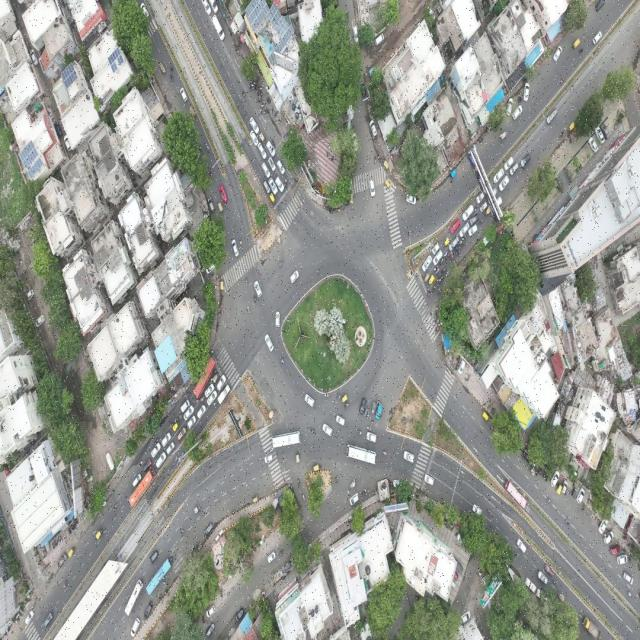3W: (555, 589, 567, 607), (565, 119, 576, 138), (572, 34, 583, 52), (186, 104, 198, 120), (66, 541, 76, 559), (191, 502, 202, 518), (94, 526, 104, 543), (157, 59, 167, 76), (292, 450, 302, 466), (383, 177, 392, 193), (422, 268, 430, 286), (250, 492, 260, 506), (448, 167, 458, 181), (218, 278, 226, 294), (258, 129, 266, 145), (268, 192, 277, 206), (480, 408, 489, 422), (340, 392, 350, 404), (383, 158, 391, 173), (218, 200, 225, 217), (427, 272, 435, 286), (569, 488, 577, 501), (172, 422, 182, 432), (312, 463, 321, 474), (444, 238, 451, 250), (556, 482, 562, 496), (210, 375, 219, 384), (485, 206, 492, 217)
Bus: (192, 349, 219, 403), (144, 554, 174, 598), (127, 472, 157, 508), (501, 477, 530, 512), (270, 427, 304, 455), (346, 440, 378, 469), (123, 579, 146, 618)
Cars: (254, 278, 265, 304), (546, 106, 559, 128), (131, 615, 142, 640), (42, 610, 55, 631), (586, 136, 600, 155), (143, 599, 154, 622), (230, 237, 241, 260), (550, 465, 561, 488), (248, 114, 260, 135), (255, 140, 267, 161), (593, 126, 605, 147), (600, 122, 612, 143), (518, 152, 532, 170), (536, 568, 550, 586), (421, 470, 435, 488), (498, 174, 511, 193), (462, 203, 475, 222), (264, 332, 275, 354), (148, 547, 160, 567), (265, 139, 277, 159), (350, 130, 360, 154), (516, 536, 528, 556), (333, 411, 347, 428), (404, 191, 418, 208), (458, 222, 472, 239), (447, 235, 461, 252), (402, 448, 416, 465), (303, 392, 316, 410), (591, 29, 604, 47), (218, 182, 228, 205), (492, 166, 504, 185), (199, 0, 212, 17), (57, 549, 68, 569), (131, 471, 142, 491), (234, 603, 244, 625), (140, 1, 150, 23), (422, 253, 433, 273), (207, 192, 216, 216), (432, 249, 444, 267), (472, 499, 484, 517), (260, 157, 270, 178), (23, 610, 36, 626), (204, 622, 217, 638), (321, 422, 334, 438), (449, 219, 462, 235), (602, 530, 615, 546), (216, 373, 226, 393), (289, 268, 299, 288), (276, 156, 286, 176), (369, 116, 379, 136), (142, 456, 153, 474), (269, 175, 278, 197), (351, 24, 360, 46), (508, 161, 519, 179), (575, 486, 586, 504), (373, 32, 386, 47), (511, 105, 523, 121), (616, 552, 628, 568), (543, 562, 555, 578), (374, 402, 384, 421), (250, 130, 260, 149), (274, 176, 284, 195), (598, 517, 608, 536), (359, 395, 368, 416), (204, 604, 217, 618), (204, 520, 214, 538), (205, 381, 215, 399), (208, 0, 220, 15), (456, 359, 466, 377), (150, 442, 161, 458), (266, 548, 277, 564), (506, 95, 513, 120), (179, 85, 188, 104), (553, 44, 562, 63), (184, 404, 194, 421), (196, 403, 206, 420), (621, 572, 634, 585), (348, 492, 360, 506), (155, 453, 166, 468), (176, 426, 187, 441), (207, 390, 218, 405), (267, 154, 276, 172), (262, 180, 272, 196), (160, 432, 172, 445), (609, 545, 621, 558), (594, 0, 607, 12), (166, 442, 176, 457), (504, 156, 514, 171), (469, 212, 479, 227), (274, 309, 281, 330), (366, 432, 378, 444), (474, 192, 486, 204), (467, 226, 479, 238), (478, 200, 489, 213), (187, 415, 197, 429), (369, 178, 376, 198), (562, 477, 569, 497), (432, 241, 441, 256), (524, 82, 530, 104), (262, 452, 274, 462)
LCV: (210, 13, 227, 43), (216, 383, 232, 406), (523, 578, 537, 592), (180, 399, 193, 412)
M2W: (278, 353, 286, 368), (61, 578, 69, 592), (277, 546, 285, 560), (322, 391, 332, 400), (552, 577, 559, 589), (178, 528, 186, 538), (545, 496, 552, 507), (371, 153, 377, 165), (381, 449, 389, 458), (361, 489, 369, 498), (278, 258, 284, 270), (300, 492, 306, 504), (578, 46, 585, 56), (512, 549, 519, 559), (309, 427, 316, 437), (296, 477, 302, 488), (431, 188, 439, 196), (112, 503, 119, 512), (558, 129, 565, 138), (365, 422, 372, 431), (33, 548, 39, 558), (36, 558, 42, 568), (169, 70, 174, 82), (334, 474, 339, 486), (158, 592, 164, 602), (184, 390, 191, 398), (477, 218, 484, 226), (458, 478, 465, 486), (189, 545, 196, 553), (138, 459, 144, 468), (178, 412, 184, 421), (564, 518, 570, 527), (626, 591, 632, 600), (487, 507, 493, 516), (227, 510, 236, 516), (67, 526, 72, 536), (246, 305, 251, 315), (271, 136, 276, 146), (165, 579, 172, 586), (283, 182, 288, 191), (560, 76, 565, 85), (474, 203, 479, 212), (436, 361, 441, 370), (337, 393, 342, 402), (154, 438, 161, 444), (172, 417, 178, 424), (200, 395, 206, 402), (272, 111, 278, 118), (622, 535, 628, 542), (344, 402, 350, 409), (51, 541, 55, 551), (56, 536, 60, 546), (254, 294, 258, 304), (239, 237, 243, 247), (209, 169, 213, 179), (170, 62, 174, 72), (242, 88, 246, 98), (435, 267, 440, 275), (489, 405, 494, 413), (532, 461, 536, 471), (621, 546, 626, 554), (357, 429, 362, 437), (195, 398, 201, 404), (276, 118, 282, 124), (284, 177, 288, 186), (478, 137, 482, 146), (434, 277, 438, 286), (434, 327, 438, 336), (377, 398, 381, 407), (518, 98, 523, 105), (453, 245, 458, 252), (439, 258, 444, 265), (626, 543, 631, 550), (206, 142, 209, 153), (378, 153, 381, 164), (364, 407, 367, 418), (270, 106, 274, 114), (294, 177, 298, 185), (444, 250, 448, 258), (439, 275, 443, 283), (432, 285, 436, 293), (492, 407, 496, 415), (169, 422, 174, 428), (245, 277, 248, 287), (235, 50, 240, 56), (259, 84, 264, 90), (517, 91, 522, 97), (461, 235, 466, 241), (455, 250, 460, 256), (433, 265, 438, 271), (545, 476, 550, 482), (367, 411, 370, 421), (209, 378, 213, 385), (213, 369, 217, 376), (261, 101, 265, 108), (266, 108, 270, 115), (54, 539, 57, 548), (59, 535, 62, 544), (71, 524, 74, 533), (74, 521, 77, 530), (259, 106, 262, 115), (446, 270, 449, 279), (543, 471, 546, 480), (582, 503, 585, 512), (257, 98, 262, 103), (443, 257, 448, 262), (75, 517, 78, 525), (234, 44, 238, 50), (255, 90, 261, 94), (266, 97, 270, 103), (462, 241, 466, 247), (458, 240, 462, 246), (449, 256, 455, 260), (447, 252, 453, 256), (442, 267, 446, 273), (425, 292, 431, 296), (437, 318, 440, 326), (524, 454, 527, 462), (629, 554, 632, 562), (249, 85, 252, 92), (264, 108, 267, 115), (481, 136, 484, 143), (522, 453, 525, 460), (251, 81, 255, 86), (438, 272, 442, 277), (438, 286, 440, 296), (268, 99, 271, 105), (253, 85, 257, 89), (255, 87, 259, 91), (427, 288, 431, 292), (540, 470, 543, 475), (526, 458, 528, 465)
Truck: (580, 610, 605, 640)
